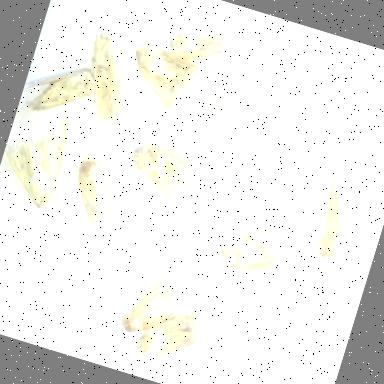abw: (64, 23, 153, 142), (0, 94, 80, 218), (212, 198, 312, 292), (112, 256, 200, 352), (115, 38, 209, 123), (118, 132, 212, 214), (128, 291, 216, 378), (58, 148, 140, 240), (17, 50, 104, 132), (305, 164, 369, 269), (162, 15, 238, 77)
